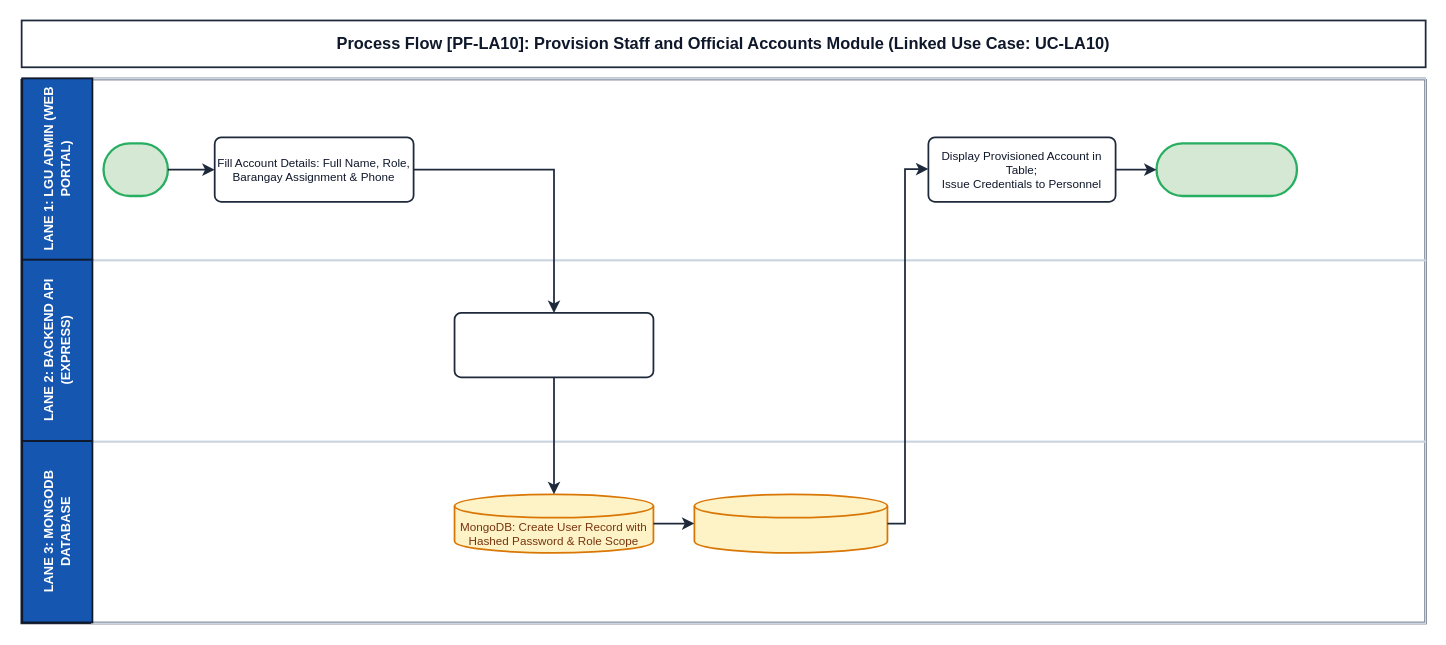
The diagram is 1446 pixels wide and 645 high, and some of its shapes have lost their labels. Here are the shapes that lost their labels. From the top down, the centre of each, then its label:
the point at 135,169: START
the point at 1226,169: END (Account Ready)
the point at 553,345: POST /api/auth/provision-staff Provisioning Payload
the point at 790,523: MongoDB: Record Security Audit Log Entry for Account Creation
